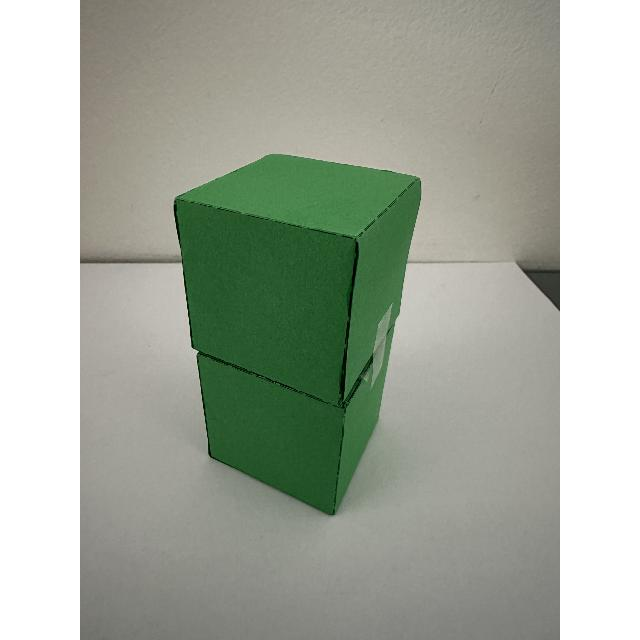green_cube: (168, 135, 448, 535)
